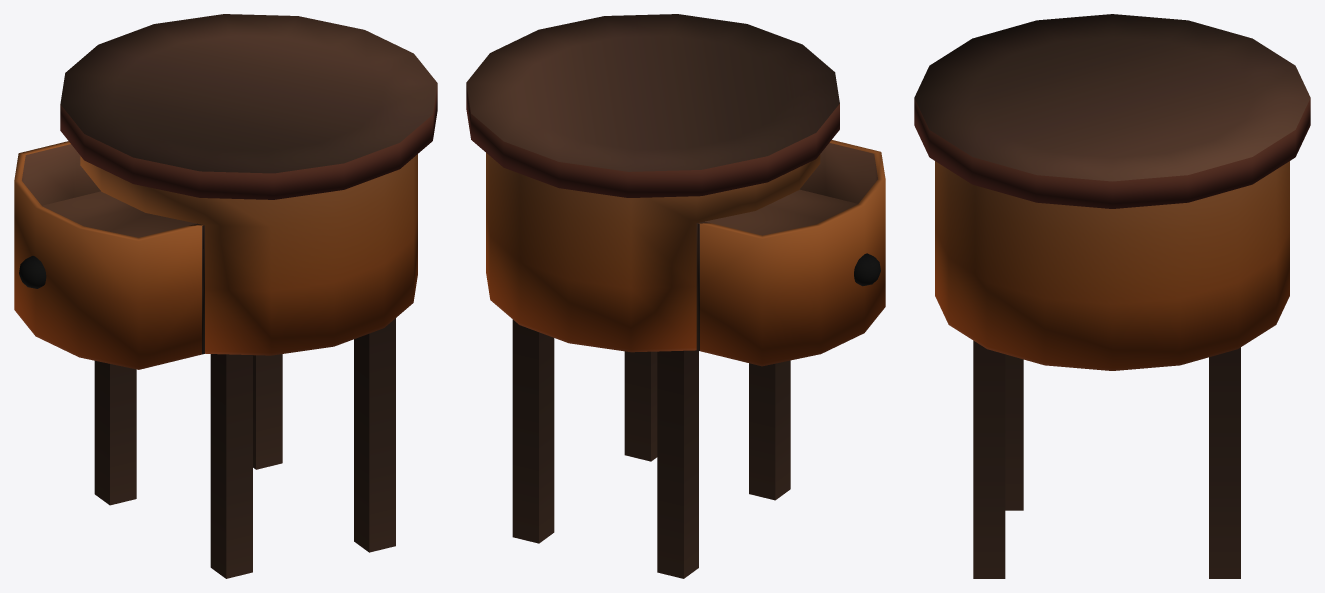
The model's file is ST_Nightcounter.fbx.
3 renders of one model, left to right at view 1: azimuth 30°, elevation 25°; view 2: azimuth 150°, elevation 25°; view 3: azimuth 270°, elevation 25°, orthographic. The views are drawn at different scales.
Parts seen in each view (by area): view 1: ST_Nightcounter; view 2: ST_Nightcounter; view 3: ST_Nightcounter.
Boxes of the visible parts, x1,y1,x2,y2 form: ST_Nightcounter: (14, 14, 437, 578); ST_Nightcounter: (466, 14, 885, 578); ST_Nightcounter: (914, 14, 1310, 578).
Bounding box in the file's own units: 55.59 × 57.27 × 46.7.
